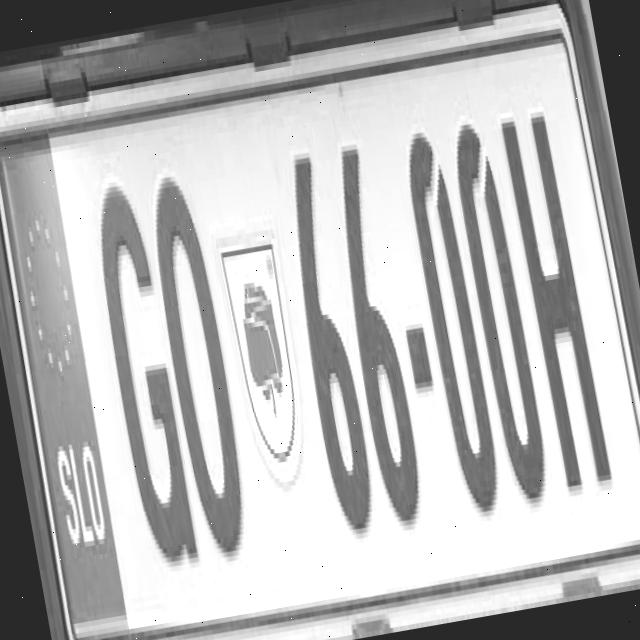EU: (0, 29, 640, 640)
Slovenie: (0, 110, 130, 640)
